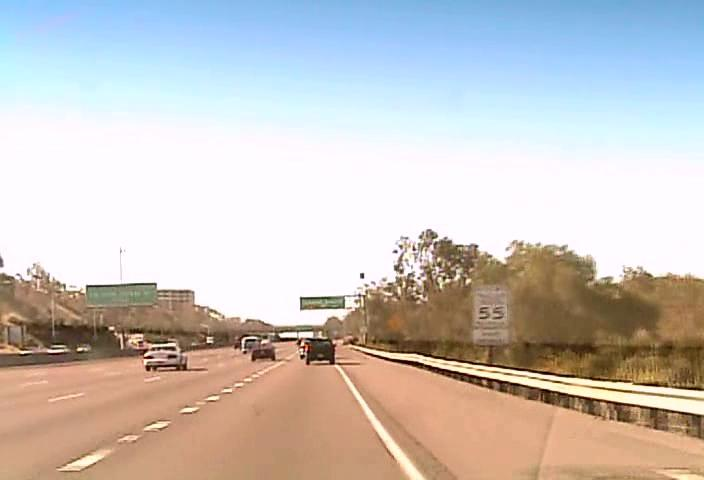truckSpeedLimit55: (472, 285, 509, 328)
